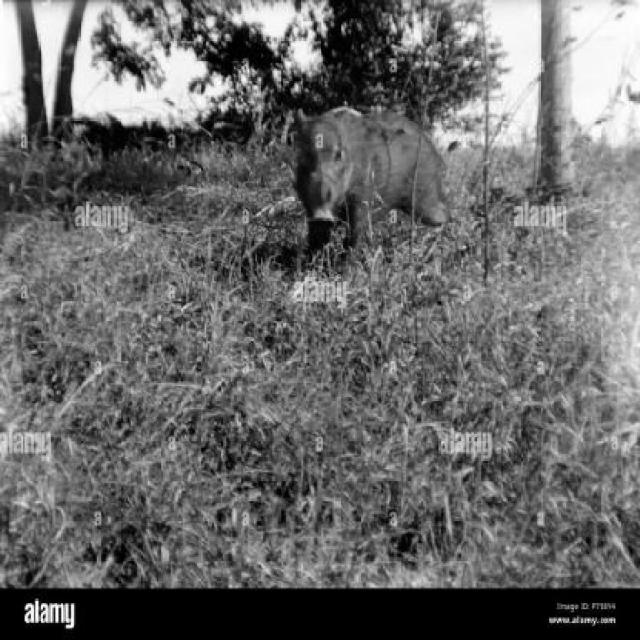wildboar: (290, 105, 452, 249)
